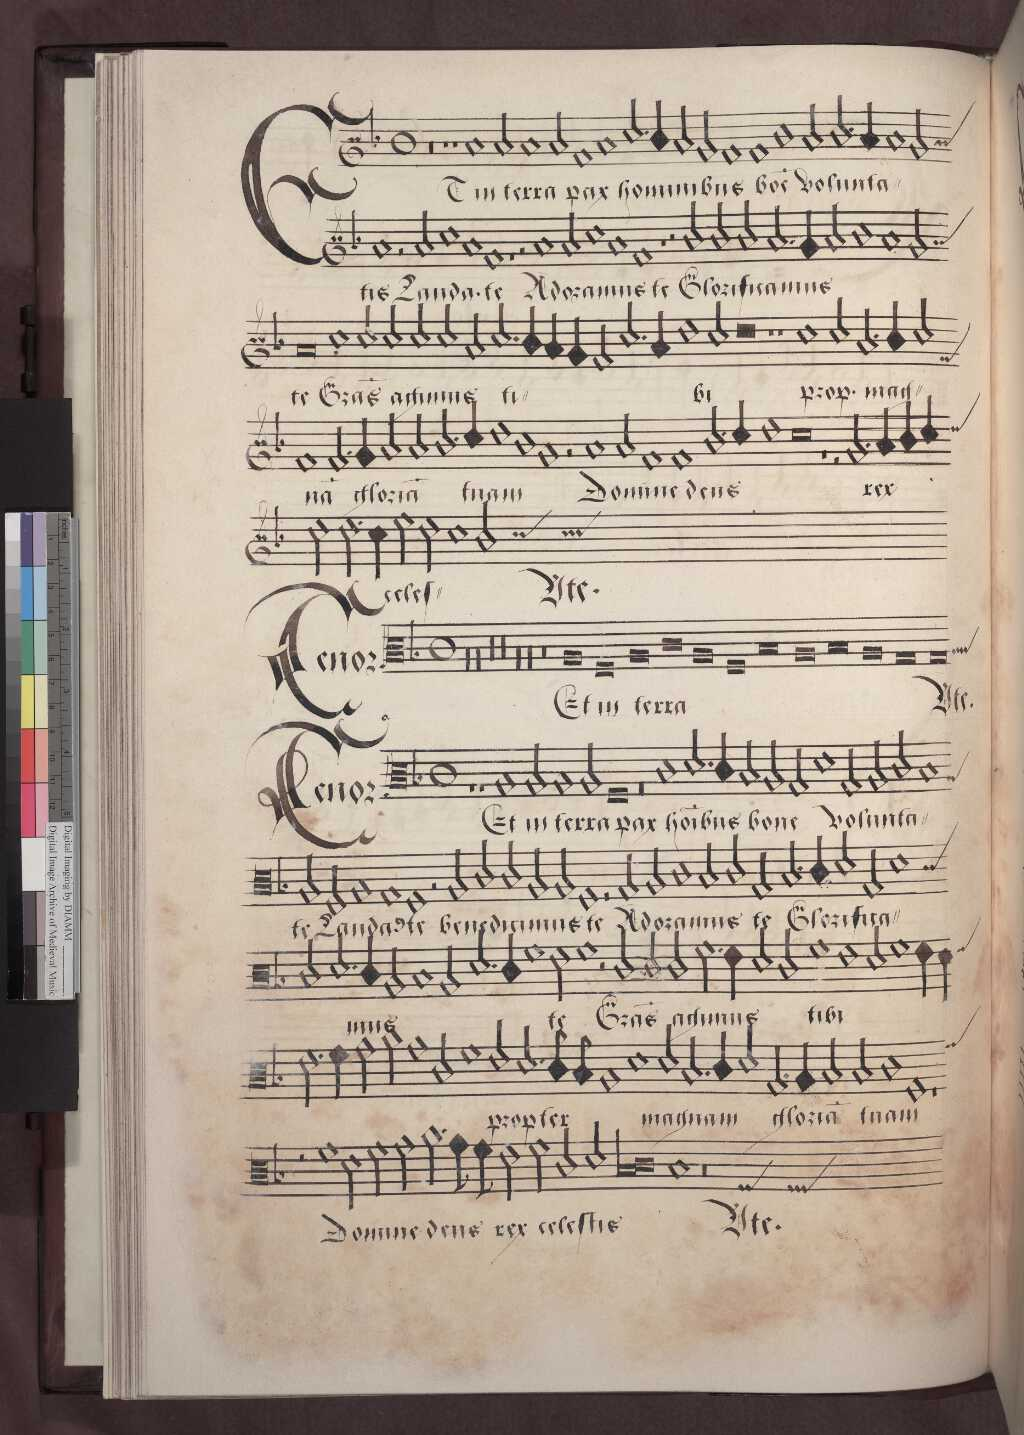breve rest: (698, 1132, 709, 1188)
c clef_7: (243, 1142, 272, 1196)
custos_11: (789, 1160, 822, 1205), (739, 1161, 760, 1201)
flat_8: (269, 1135, 288, 1196)
fusa_3: (446, 1125, 473, 1202)
fusa_4: (471, 1125, 495, 1208)
l1semibreve_8: (610, 1123, 635, 1183)
l2semibreve_7: (633, 1154, 657, 1178)
minim rest: (293, 1135, 308, 1208)
minim_2: (417, 1123, 442, 1190)
minim_3: (393, 1124, 416, 1199)
minim_4: (363, 1131, 389, 1203), (528, 1129, 550, 1199)
minim_5: (496, 1134, 519, 1208)
minim_6: (583, 1113, 608, 1178), (340, 1142, 363, 1213)
minim_7: (554, 1119, 580, 1187)
point: (434, 1120, 449, 1140)
semibreve_4: (314, 1134, 338, 1172)
semibreve_8: (665, 1146, 693, 1190)
